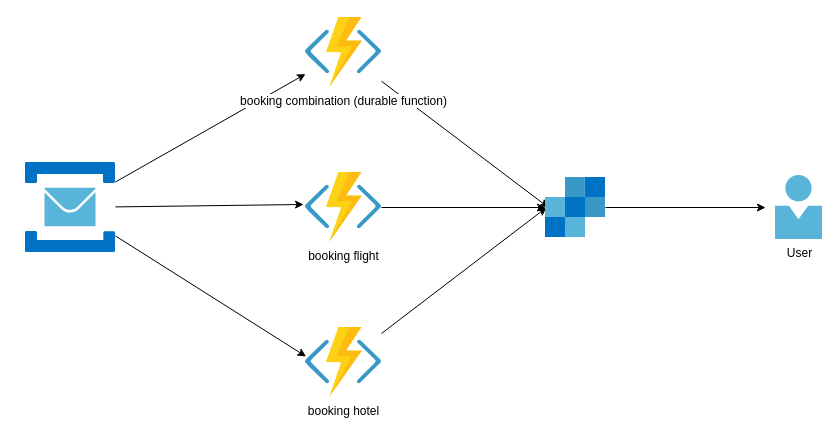
Image size: 840x435. Some labels were removed from this diagram. The centre of each missing label's shape, as x and y in pixels:
booking-service-bus: [70,207]
Sendgrid: [575,207]
